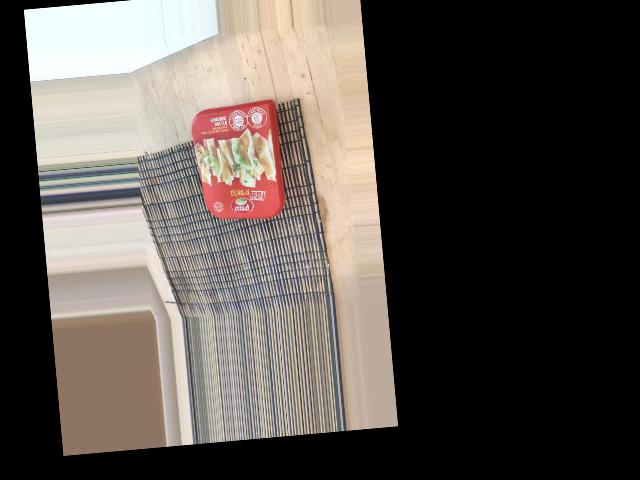cheese: (127, 167, 266, 267)
